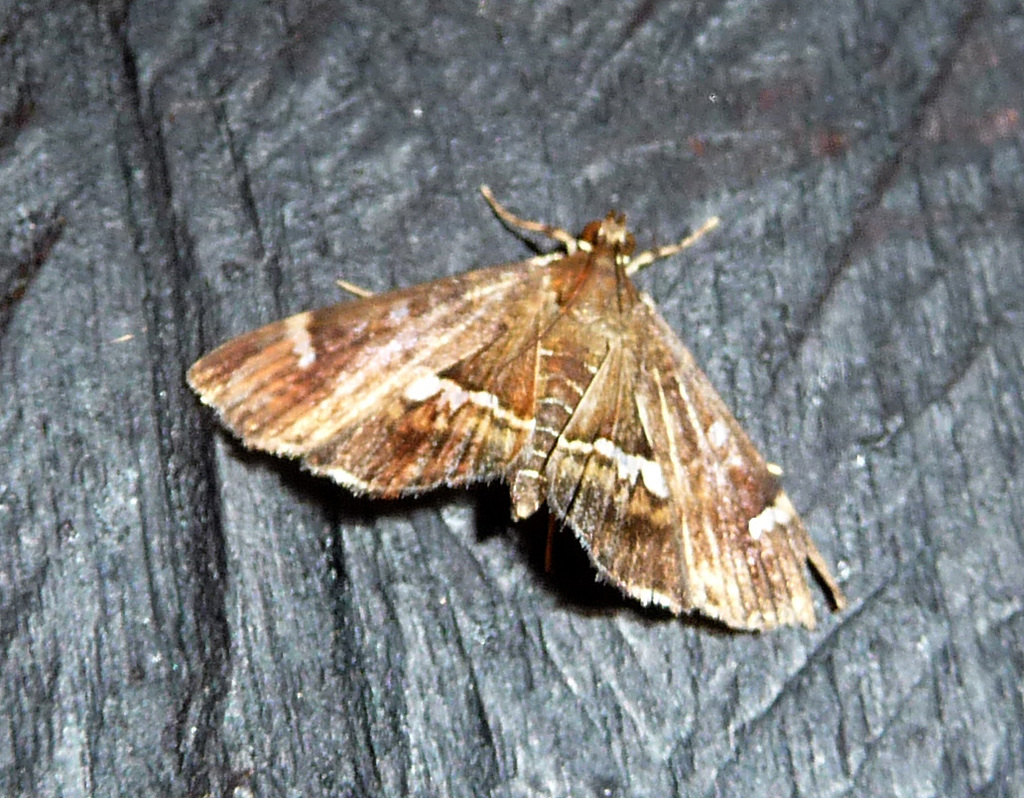Butterfly: (176, 181, 847, 653)
